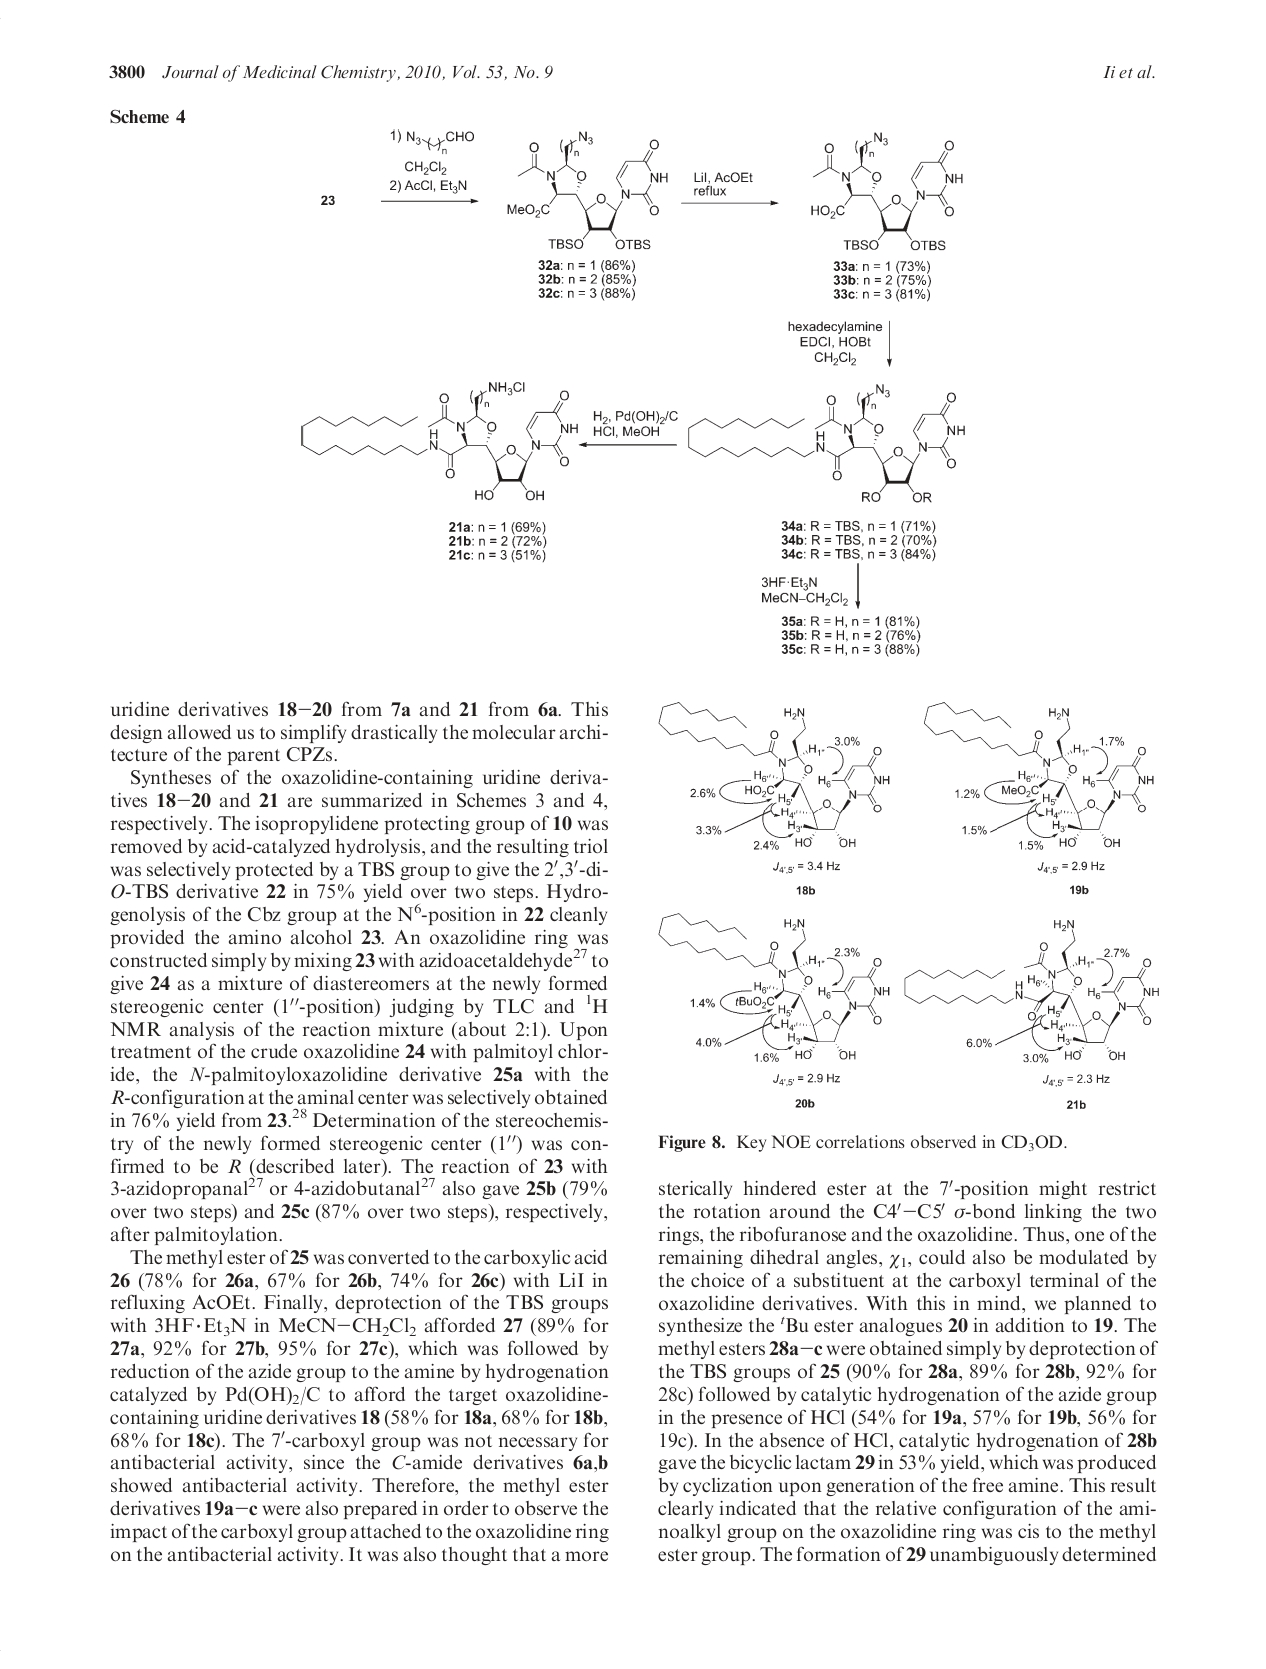exist_molecular: (903, 915, 1162, 1064), (656, 697, 892, 850), (656, 910, 892, 1063), (298, 379, 582, 503), (920, 700, 1156, 848), (688, 384, 965, 503), (505, 130, 669, 251), (809, 132, 965, 253)
